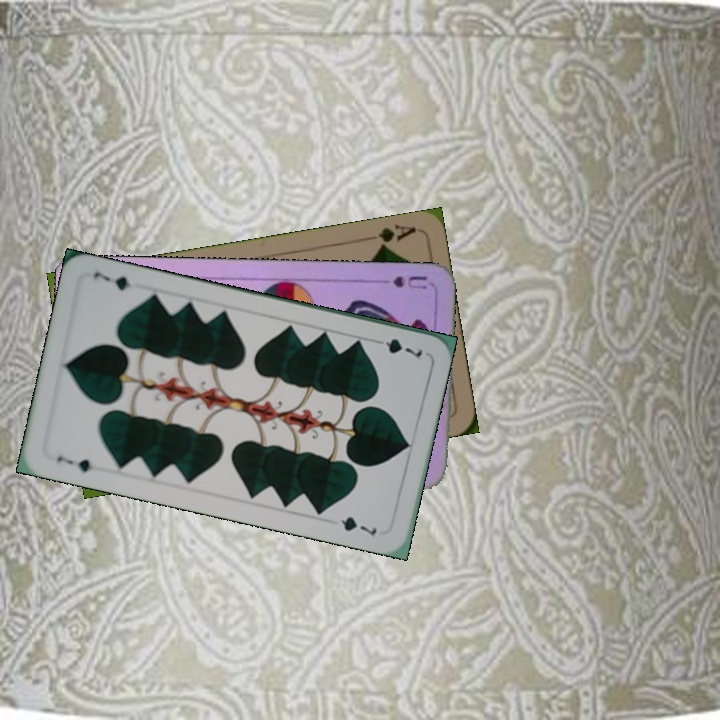G7: (368, 334, 425, 360), (52, 452, 103, 476)
GA: (373, 221, 419, 252)
SU: (389, 271, 429, 292)
